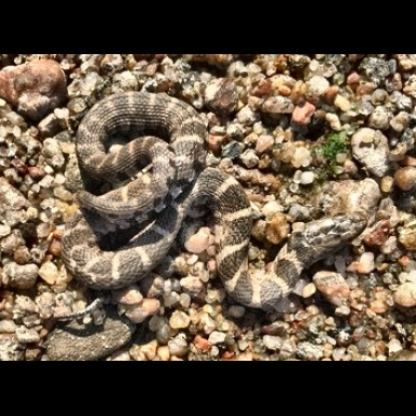Snake: (57, 91, 367, 311)
